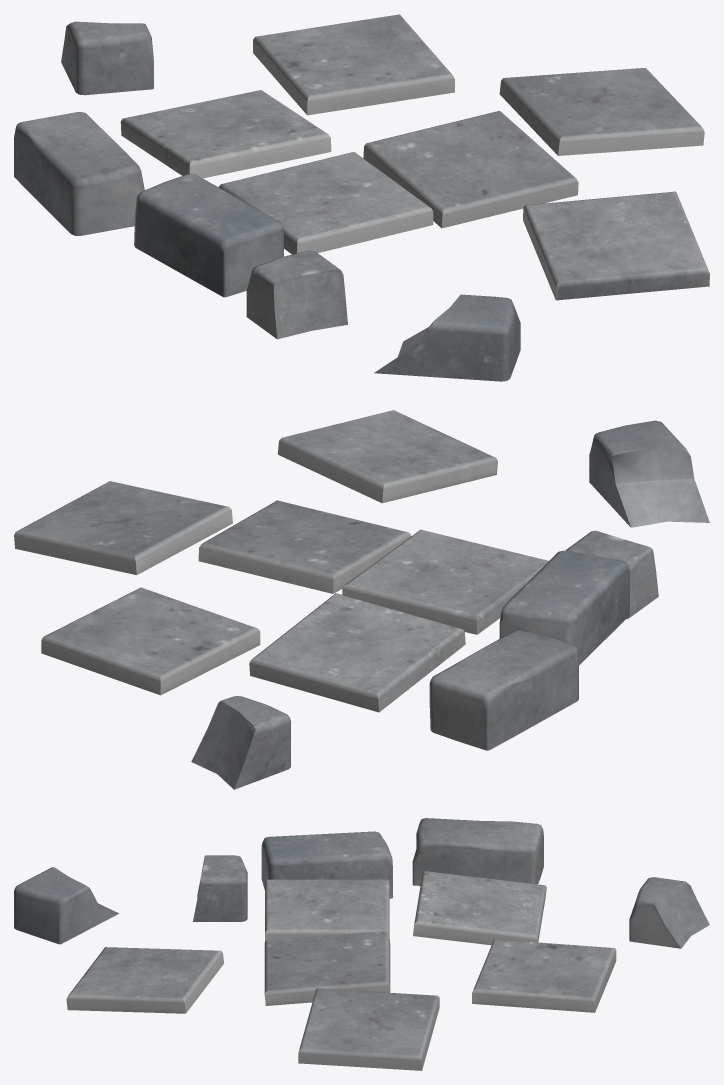
The model's file is road_pile02.fbx.
The picture shows the model from 3 angles, top to bottom: view 1: azimuth 30°, elevation 25°; view 2: azimuth 150°, elevation 25°; view 3: azimuth 270°, elevation 25°; orthographic projection. The views are drawn at different scales.
Parts seen in each view (by area): view 1: road_pile02; view 2: road_pile02; view 3: road_pile02.
Part boxes in pixels (x1,y1,x2,y2): road_pile02: [14, 14, 709, 381]; road_pile02: [14, 410, 709, 789]; road_pile02: [14, 818, 709, 1070].
Bounding box in the file's own units: 8.41 × 0.9892 × 11.14.
